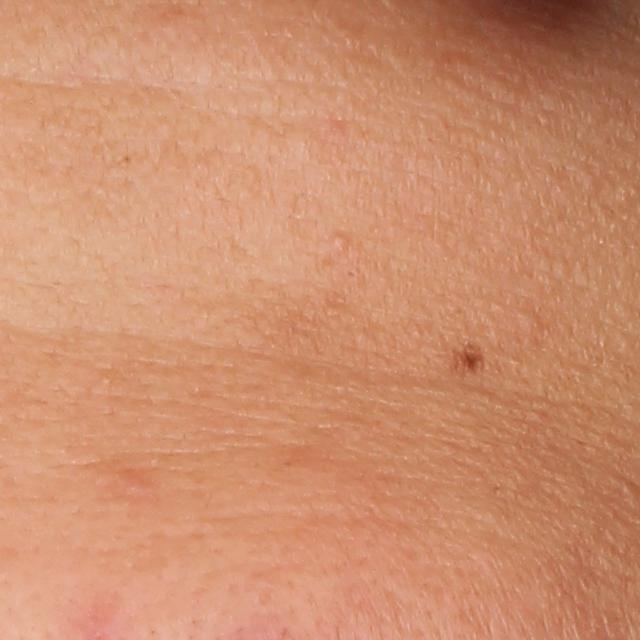comedo: (331, 232, 352, 253)
nevus: (447, 338, 492, 377)
